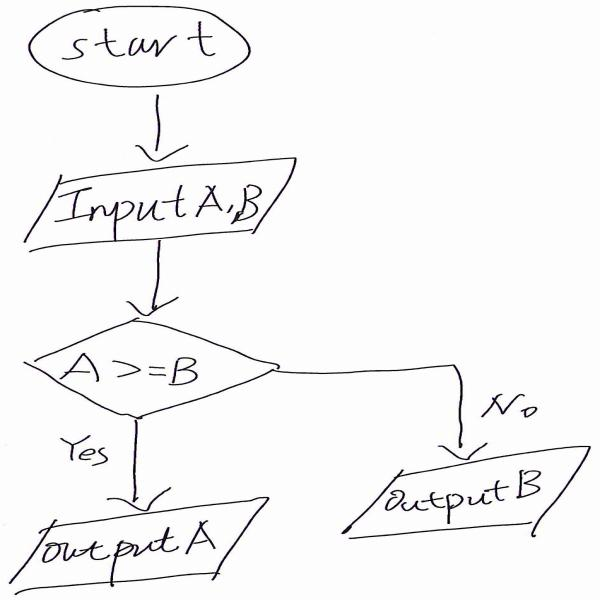arrow: (290, 349, 486, 460), (113, 424, 174, 509), (137, 94, 189, 161), (131, 244, 178, 318)
data: (5, 496, 273, 593), (344, 443, 600, 539)
decision: (21, 314, 292, 418)
terminator: (22, 6, 254, 86)
text: (63, 189, 267, 230), (63, 23, 229, 62), (40, 528, 216, 561), (383, 480, 543, 516), (73, 353, 208, 390), (41, 433, 107, 479), (482, 389, 550, 429)
